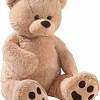teddy: (2, 1, 97, 98)
